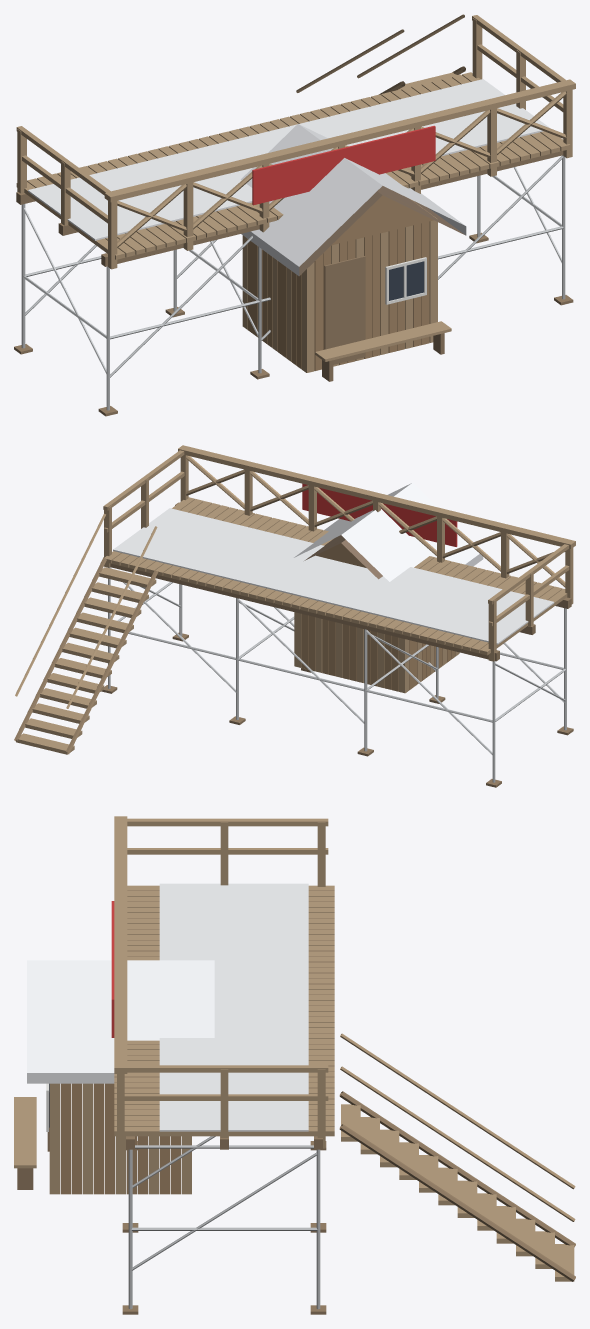
The model's file is props.glb.
The picture shows the model from 3 angles, top to bottom: view 1: azimuth 30°, elevation 25°; view 2: azimuth 150°, elevation 25°; view 3: azimuth 270°, elevation 25°; orthographic projection. The views are drawn at different scales.
Parts seen in each view (by area): view 1: shuttlecock_platform, finish_hut; view 2: shuttlecock_platform, finish_hut; view 3: shuttlecock_platform, finish_hut.
Boxes of the visible parts, x1,y1,x2,y2 form: shuttlecock_platform: [14, 14, 575, 416]; finish_hut: [241, 124, 466, 381]; shuttlecock_platform: [14, 445, 575, 787]; finish_hut: [294, 482, 483, 693]; shuttlecock_platform: [111, 816, 575, 1314]; finish_hut: [14, 960, 214, 1194].
Bounding box in the file's own units: 9.24 × 4.19 × 8.68.
